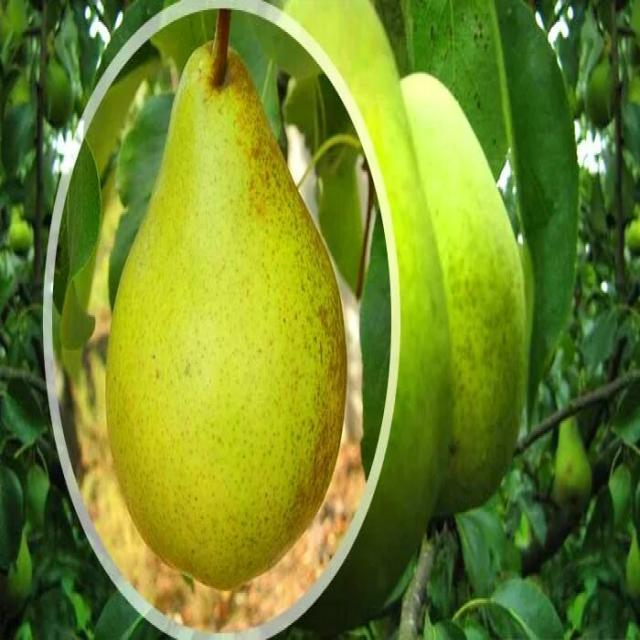pear: (104, 37, 348, 588)
